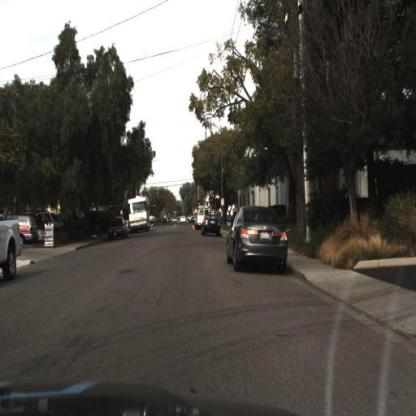car: (224, 201, 288, 273), (0, 211, 22, 279), (35, 207, 67, 241), (104, 214, 128, 242), (106, 212, 128, 241), (198, 214, 220, 234), (193, 206, 211, 229), (169, 214, 180, 226)
truck: (125, 192, 150, 235)
